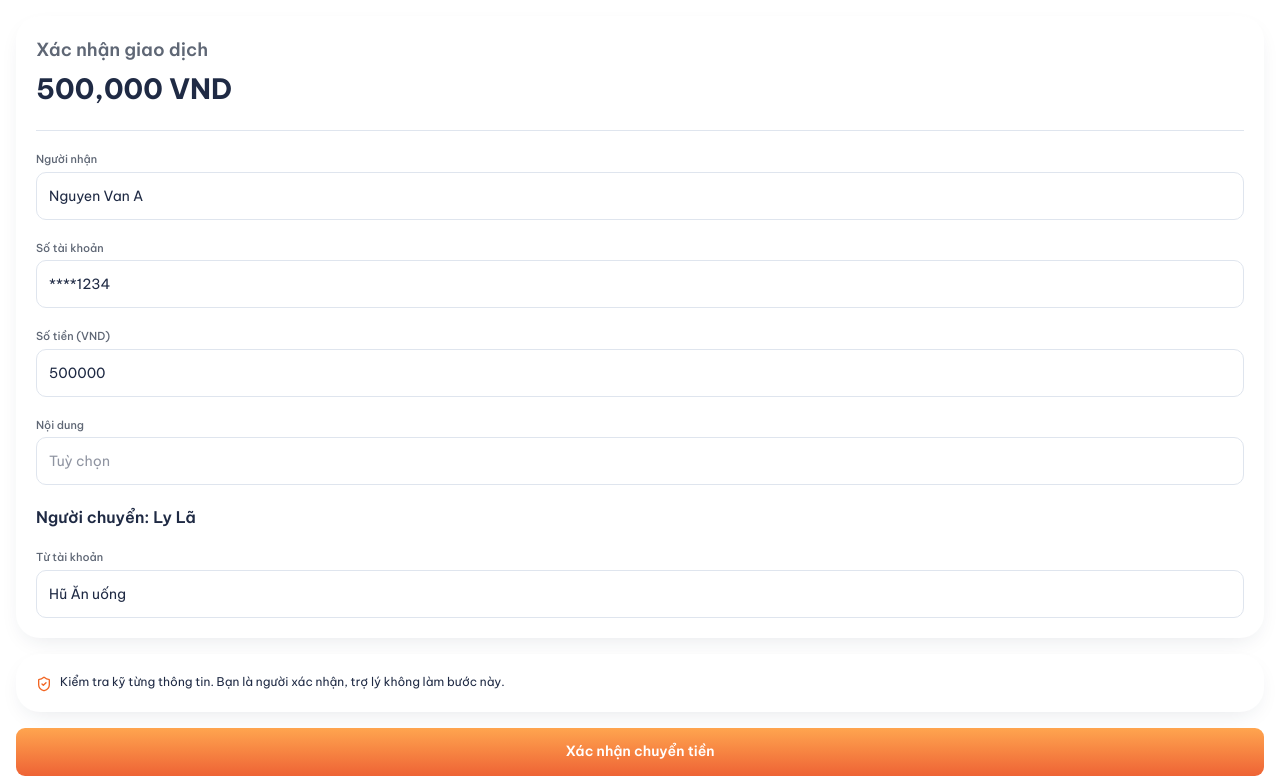
Test: TransferConfirm — always create + categorize › shows an error and does not change category when update fails (F#8)
(page scrolled)
Click the button "Xác nhận chuyển tiền" at {"x": 640, "y": 752}, box [16, 728, 1264, 776]
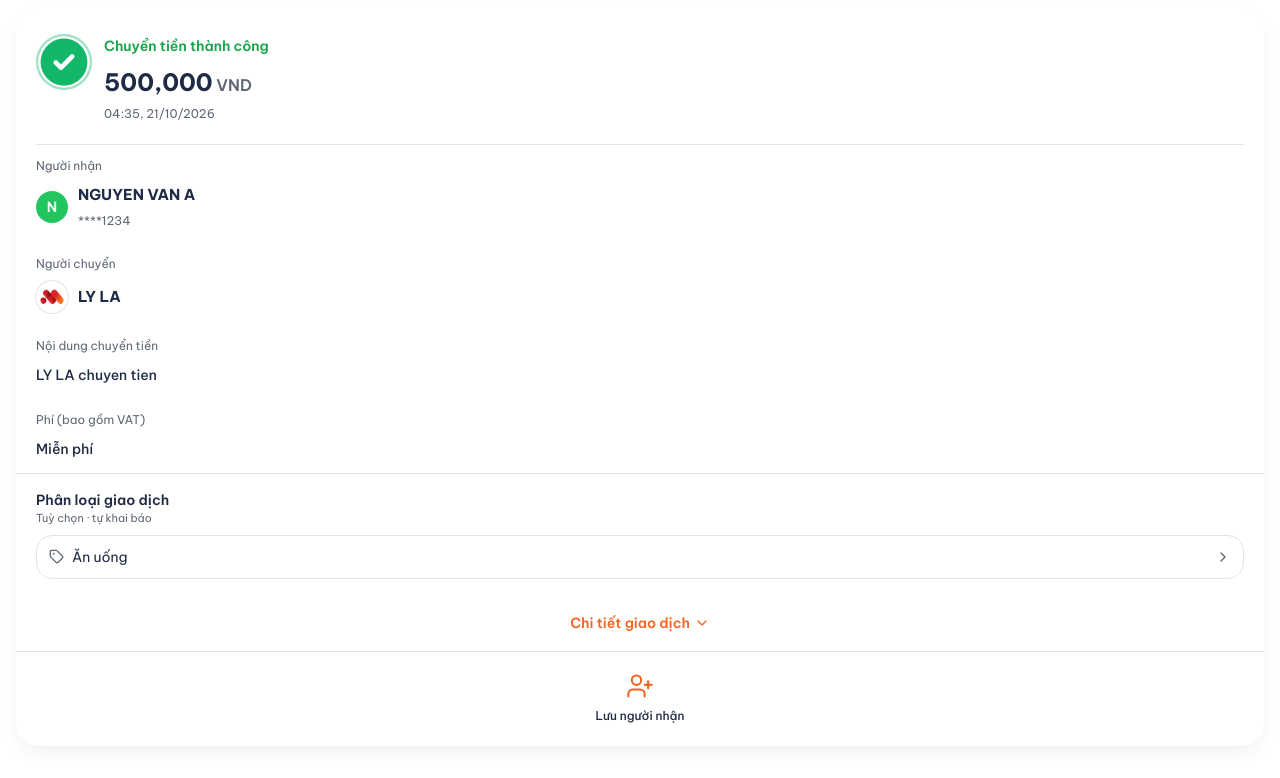
Check: the text "Chuyển tiền thành công" is shown, box [104, 32, 269, 60]
Click the button "Ăn uống" at {"x": 100, "y": 556}, box [36, 534, 1244, 578]
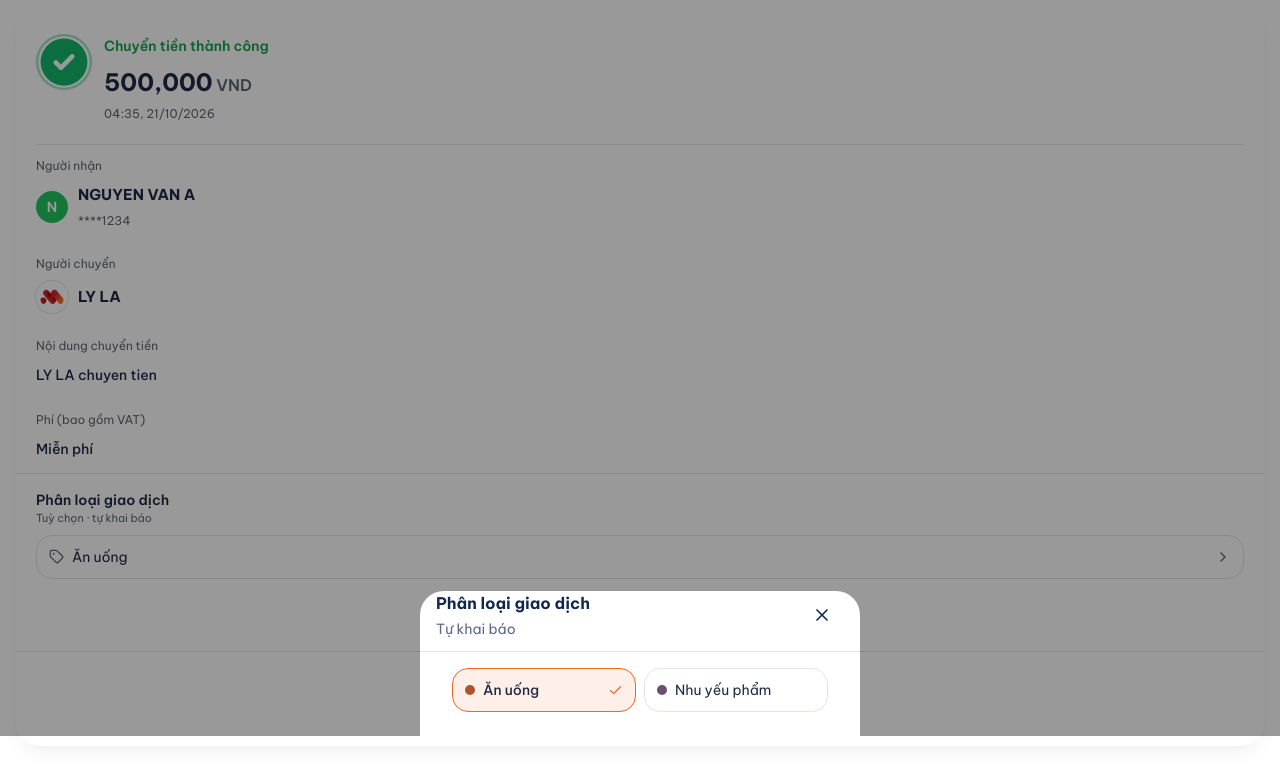
Click the button "Nhu yếu phẩm" at {"x": 736, "y": 690}, box [644, 668, 828, 712]
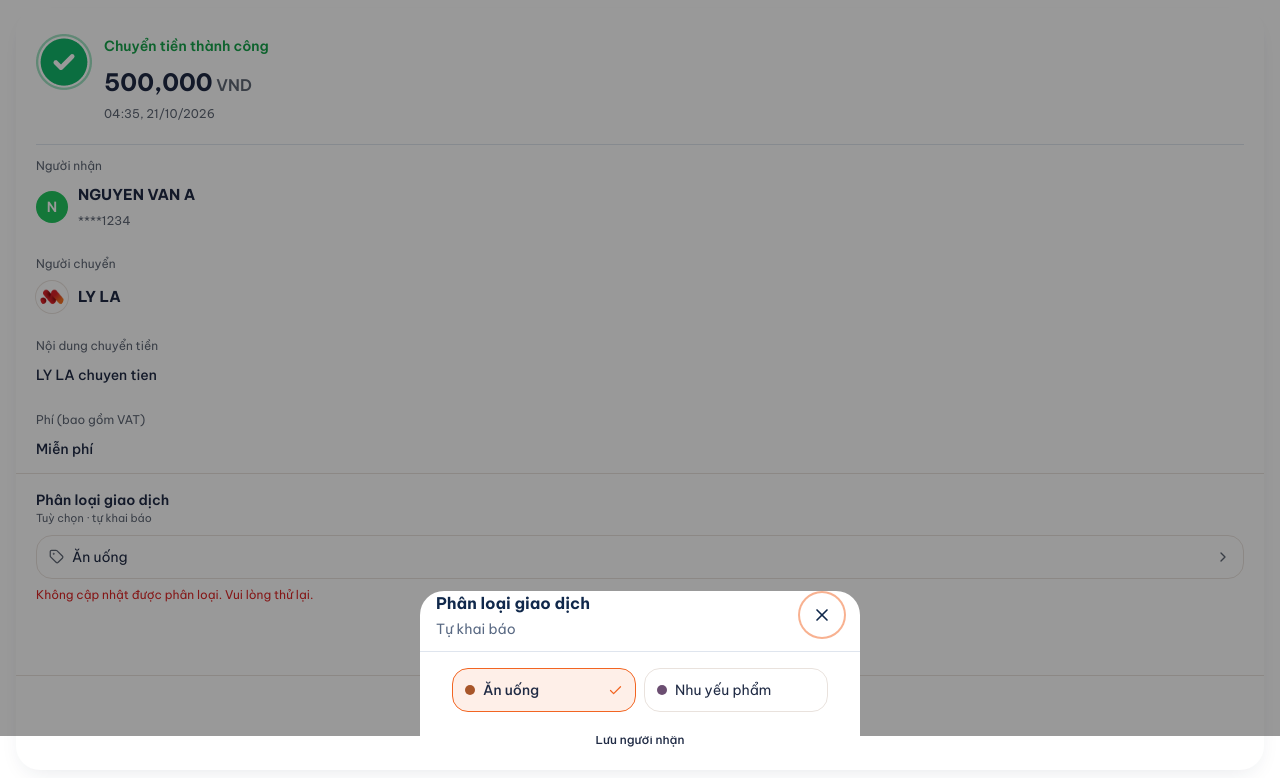
Check: the text "Không cập nhật được phân loại. Vui lòng thử lại." is shown, box [36, 586, 313, 602]
